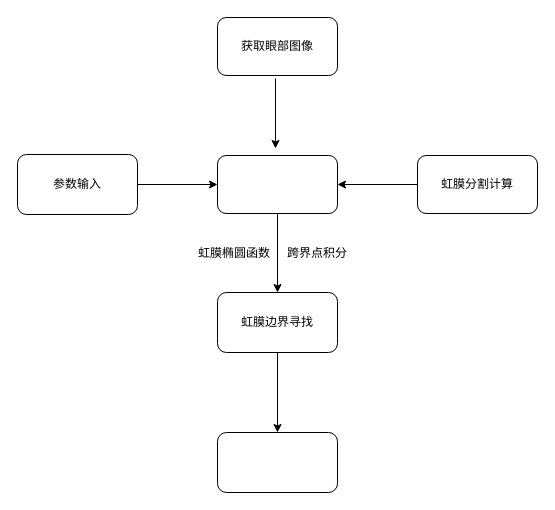
The diagram is 555 pixels wide and 510 high, and some of its shapes have lost their labels. Each missing label, with the centre of its shape:
"眼球参数获取" belongs at point 277,184.
"输出虹膜区域" belongs at point 277,462.
